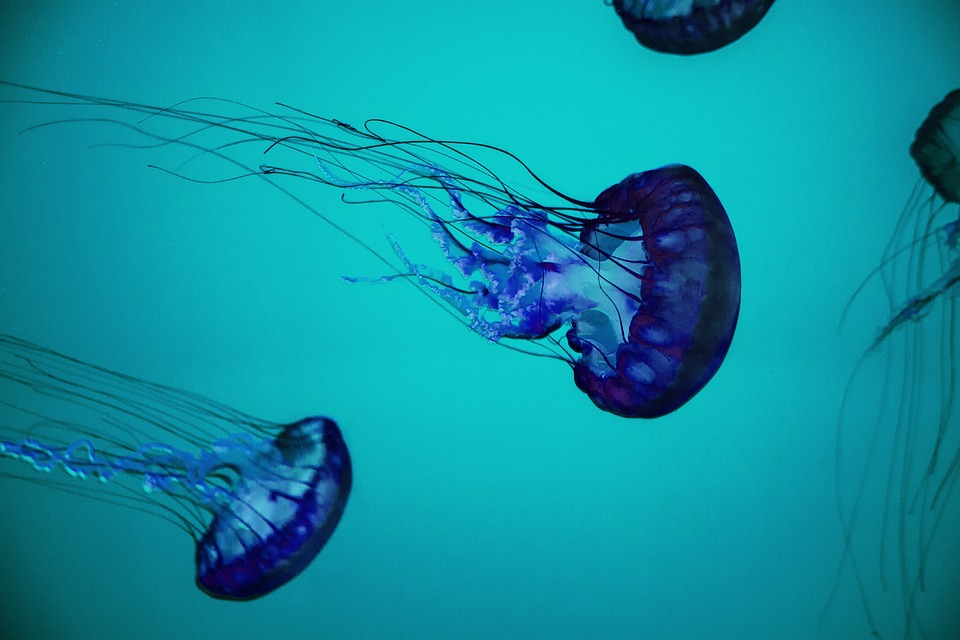jellyfish: (253, 94, 780, 425), (20, 345, 361, 605)
